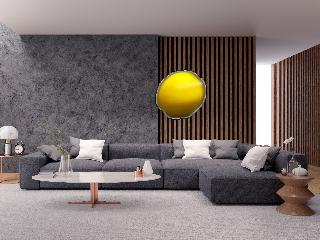lemon: (158, 73, 206, 118)
